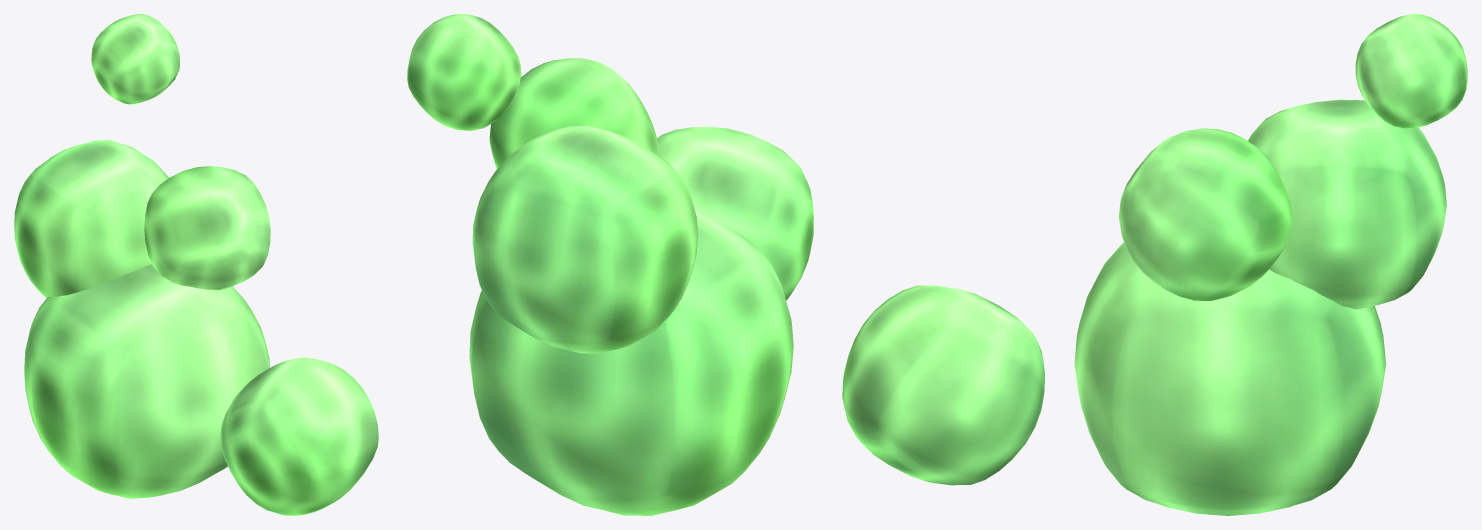
The model's file is slime.fbx.
3 renders of one model, left to right at view 1: azimuth 30°, elevation 25°; view 2: azimuth 150°, elevation 25°; view 3: azimuth 270°, elevation 25°, orthographic. The views are drawn at different scales.
Visible parts, largest first — view 1: The witchs cauldron.001; view 2: The witchs cauldron.001; view 3: The witchs cauldron.001.
Boxes of the visible parts, <box> form: The witchs cauldron.001: <box>14,14,378,515</box>; The witchs cauldron.001: <box>407,14,813,515</box>; The witchs cauldron.001: <box>842,14,1467,515</box>.
Size of the model in its own units: 9.52 by 17.11 by 18.45.
Materials: 1 (1 with a texture image).
